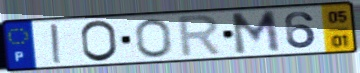6: (282, 11, 318, 50)
I: (48, 22, 65, 65)
M: (228, 8, 283, 57)
O: (79, 19, 120, 64), (133, 17, 175, 59)
R: (176, 13, 225, 60)
